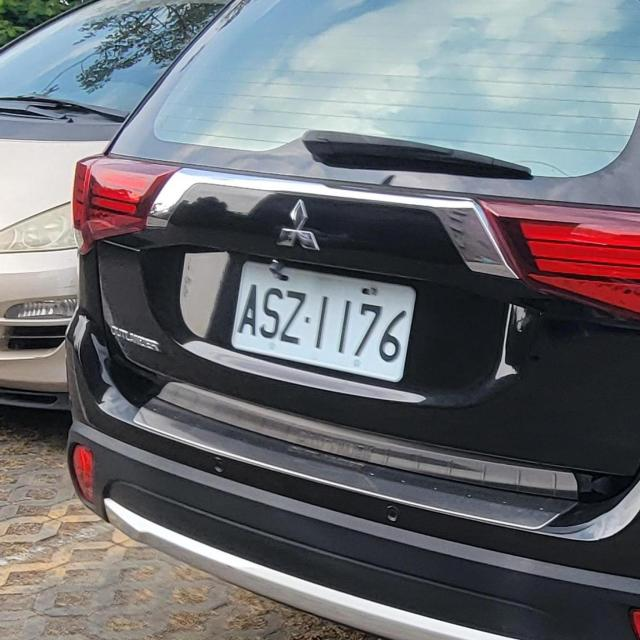W: (225, 254, 422, 382)
